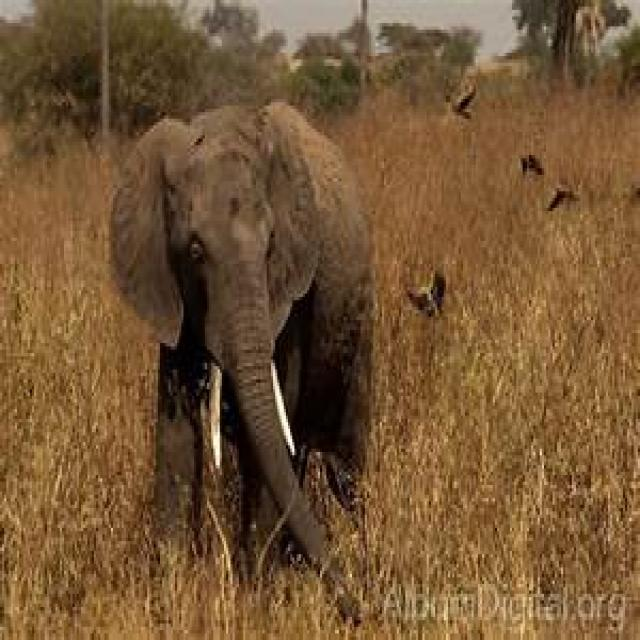elephant: (109, 102, 378, 574)
